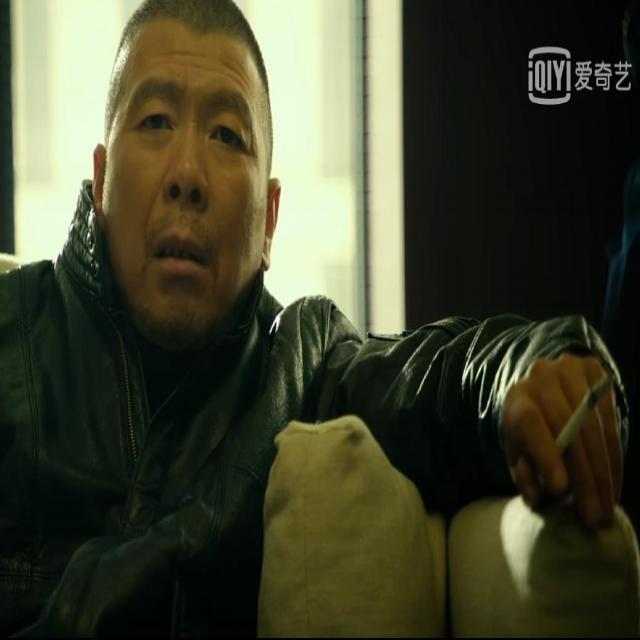Сигарета: (550, 375, 614, 459)
Тело: (3, 5, 325, 640)
